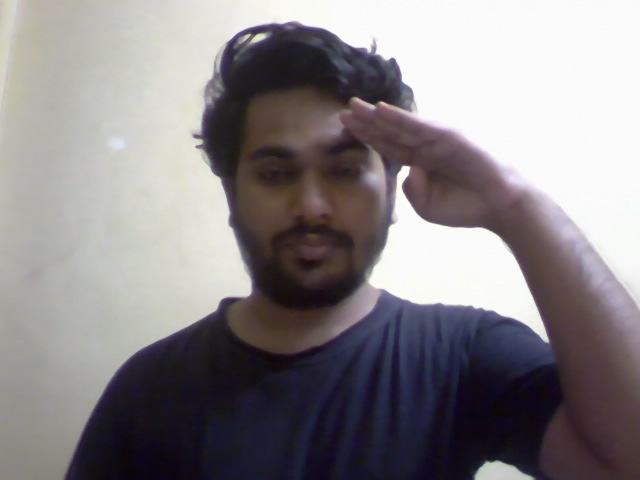hello: (177, 12, 511, 305)
